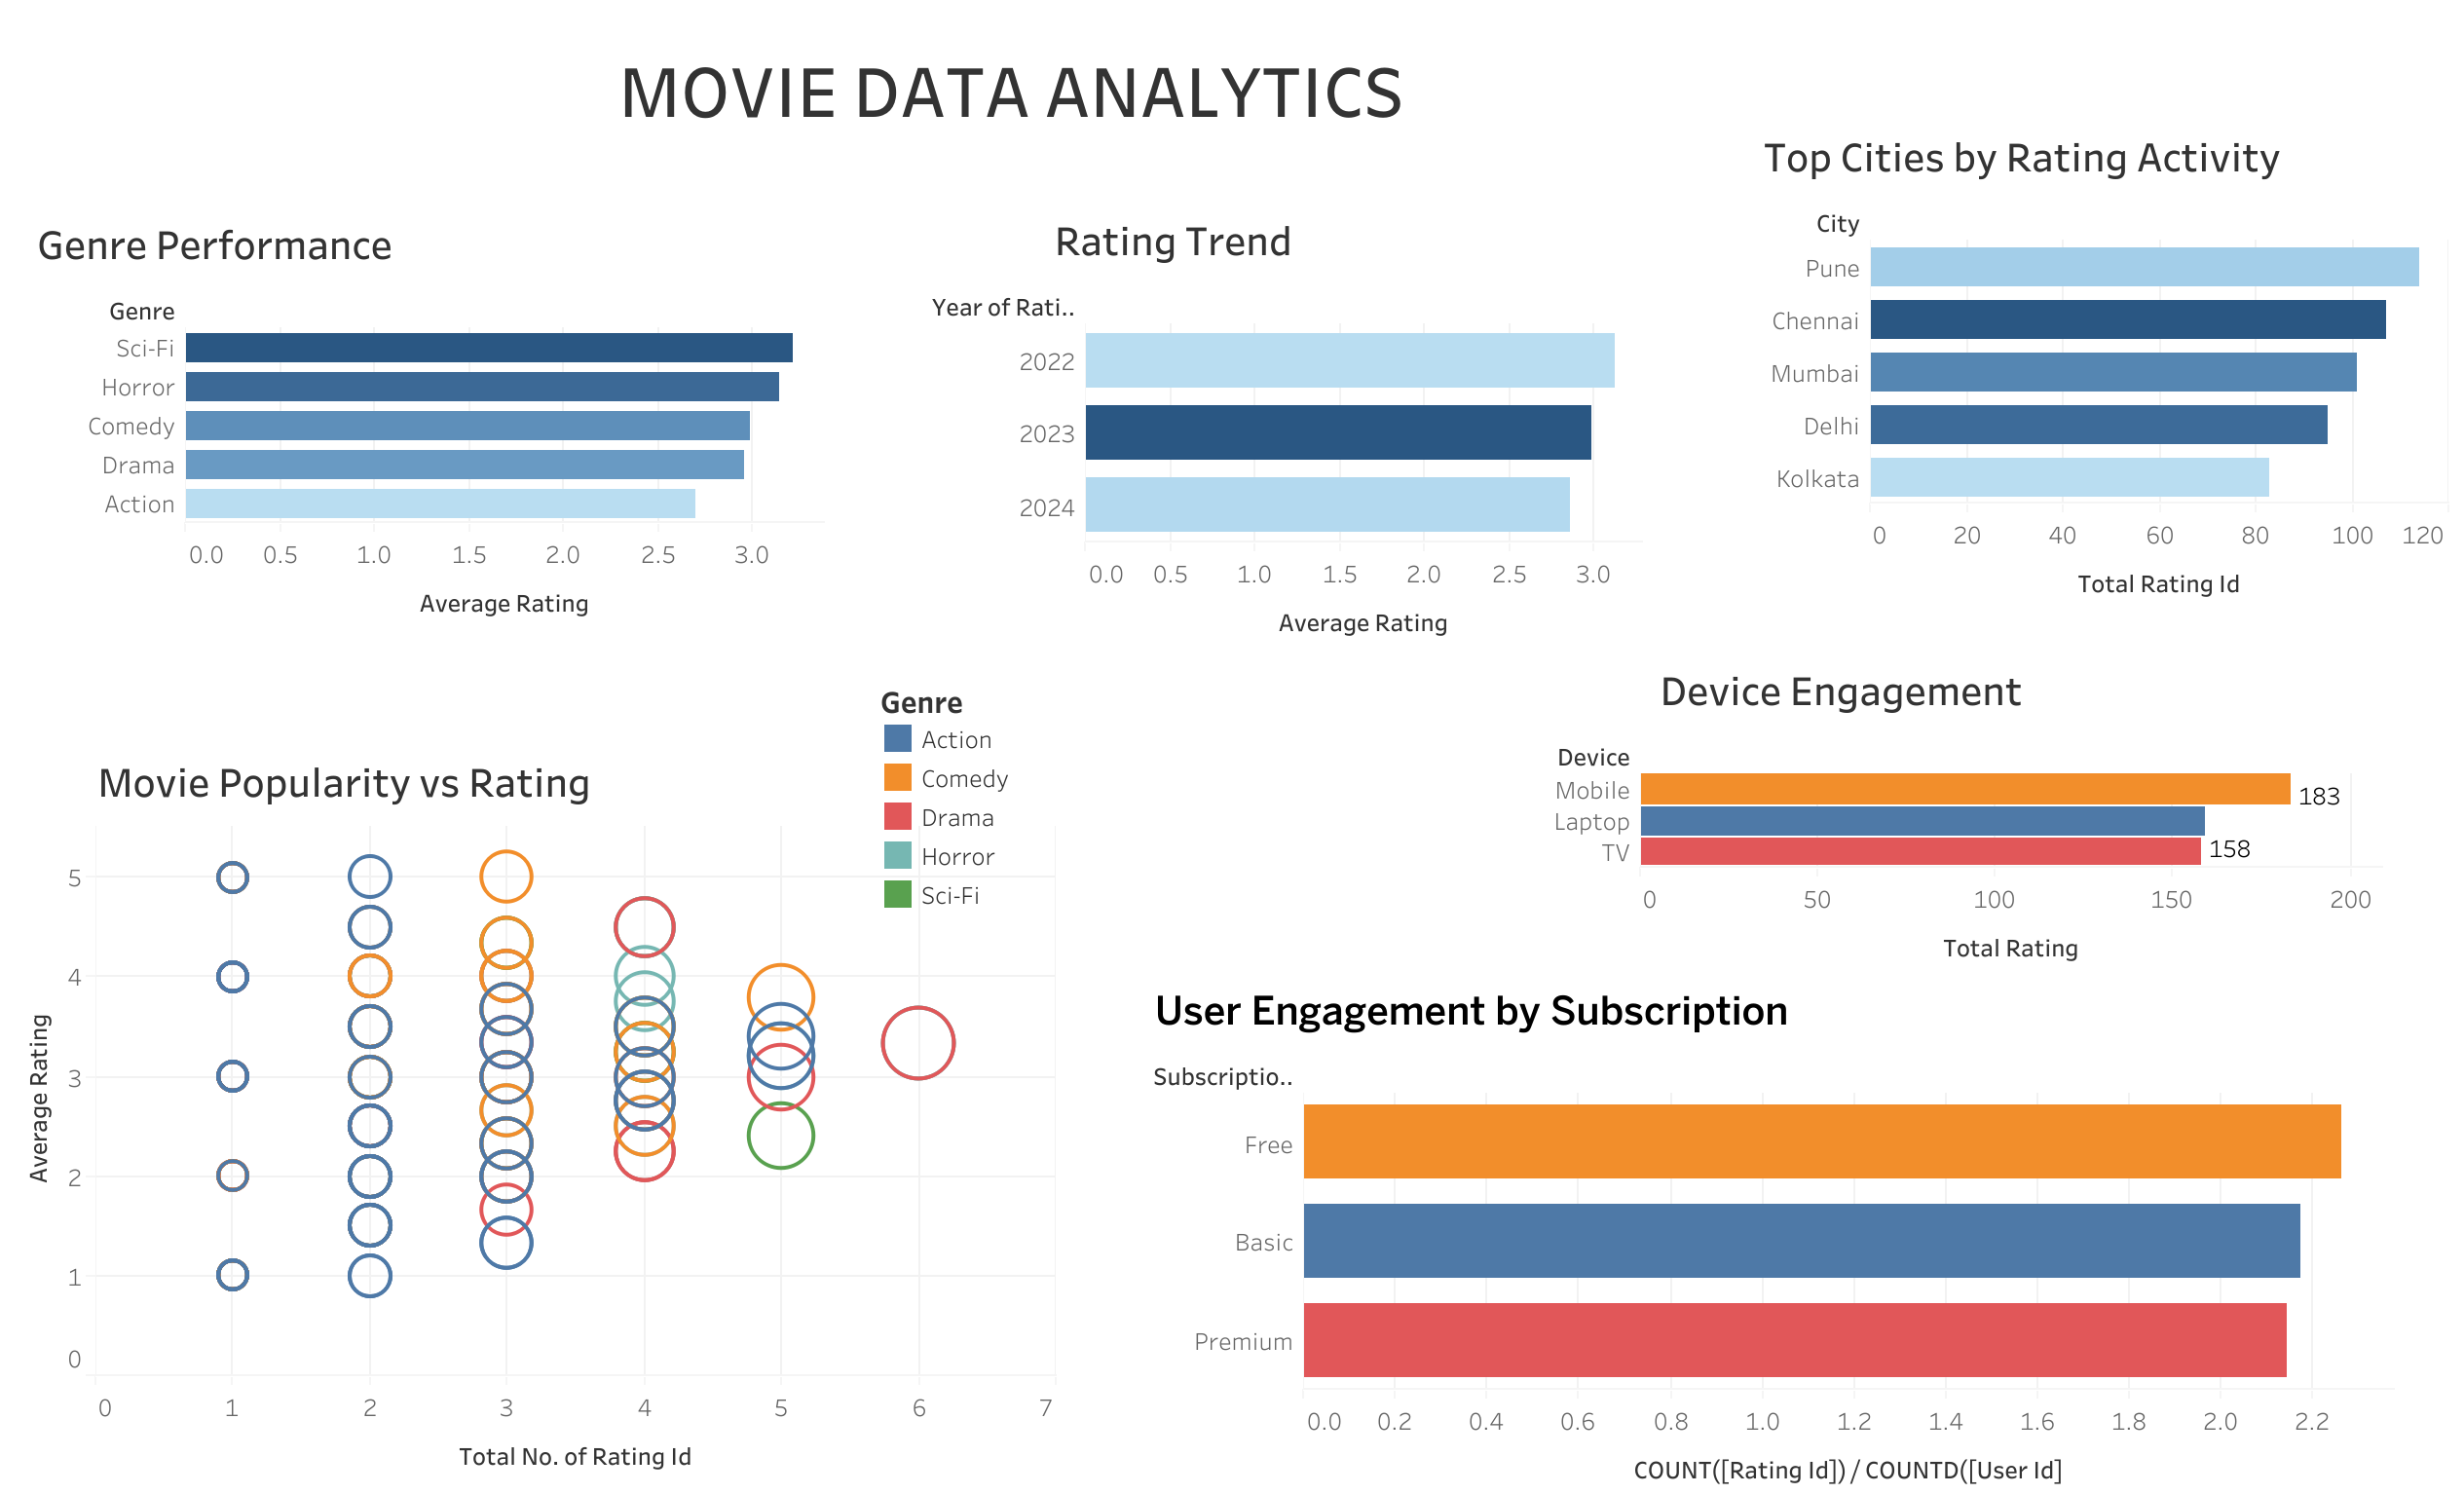

Layout of this report page (visuals, bound fields, positions):
{"tool":"tableau","page":{"name":"Dashboard 1","canvas":[1266,768],"ordinal":0},"visuals":[{"type":"title","box":[195,17,610,106]},{"type":"worksheet","title":"Top Cities by Rating Activity","mark":"Automatic","rows":["city"],"cols":["rating_id"],"box":[880,60,377,255]},{"type":"worksheet","title":"Rating Trend","mark":"Bar","rows":["rating_date"],"cols":["rating"],"box":[477,103,366,232]},{"type":"worksheet","title":"Genre Performance","mark":"Automatic","rows":["genre"],"cols":["rating"],"box":[15,105,408,227]},{"type":"worksheet","title":"Device Engagement","mark":"Bar","rows":["device"],"cols":["rating"],"box":[762,334,461,168]},{"type":"legend","title":"Movie Popularity vs Rating","param":"[federated.0gkihon03cdtkw16zf5tg08bemrq].[none:genre:nk]","box":[451,347,129,167]},{"type":"worksheet","title":"Movie Popularity vs Rating","mark":"Automatic","rows":["rating"],"cols":["rating_id"],"box":[2.8,381,539.4,382]},{"type":"worksheet","title":"User Engagement","mark":"Automatic","rows":["subscription_type"],"cols":["Calculation_0665033932410881"],"box":[589,501,640,269]}]}

Visuals, with their boxes in screenshot pixels (x1, y1, x2, y2), scaled from the page's 1266x768 canvas onto the 2464x1494 screenshot:
title: 380 33 1567 240
"Top Cities by Rating Activity" worksheet: 1713 117 2446 613
"Rating Trend" worksheet (Bar marks): 928 201 1641 652
"Genre Performance" worksheet: 29 205 823 646
"Device Engagement" worksheet (Bar marks): 1483 650 2380 977
"Movie Popularity vs Rating" legend: 877 675 1129 1000
"Movie Popularity vs Rating" worksheet: 6 741 1056 1484
"User Engagement" worksheet: 1146 975 2392 1493
